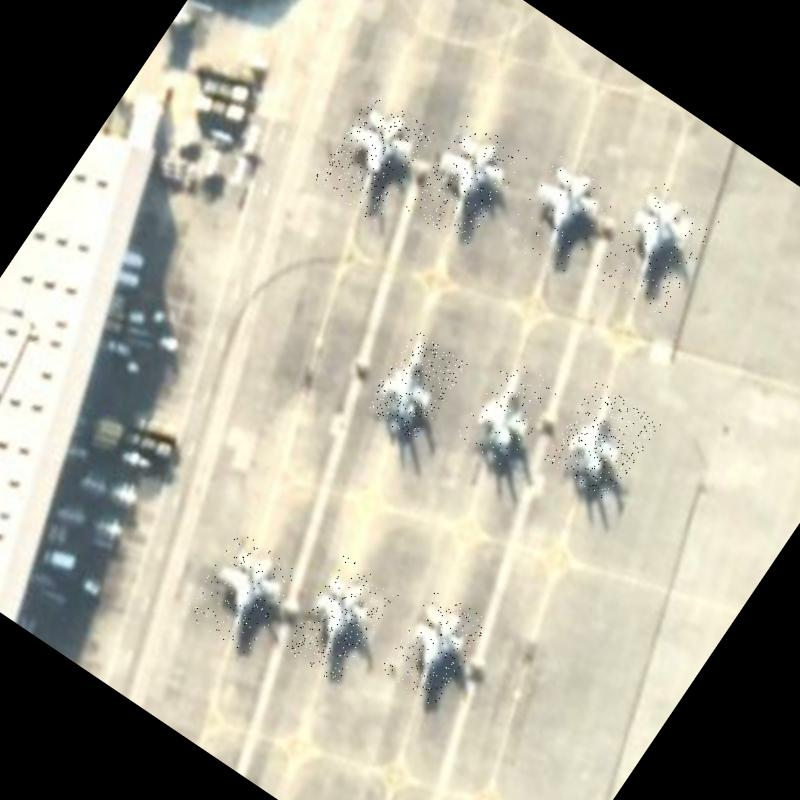A16: (590, 176, 724, 318), (312, 90, 437, 224), (404, 116, 528, 250), (280, 555, 400, 687), (502, 149, 623, 279), (183, 530, 304, 657), (542, 380, 661, 504), (379, 586, 491, 707), (362, 329, 469, 443), (456, 355, 562, 470)
